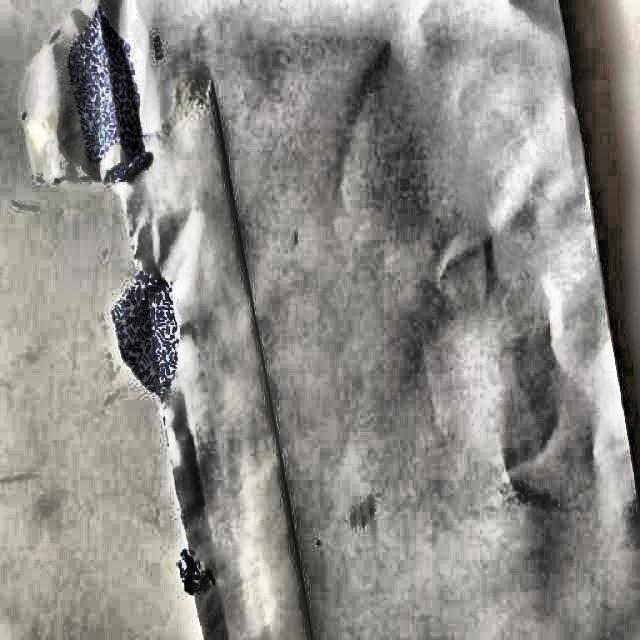Paper: (21, 0, 638, 638)
